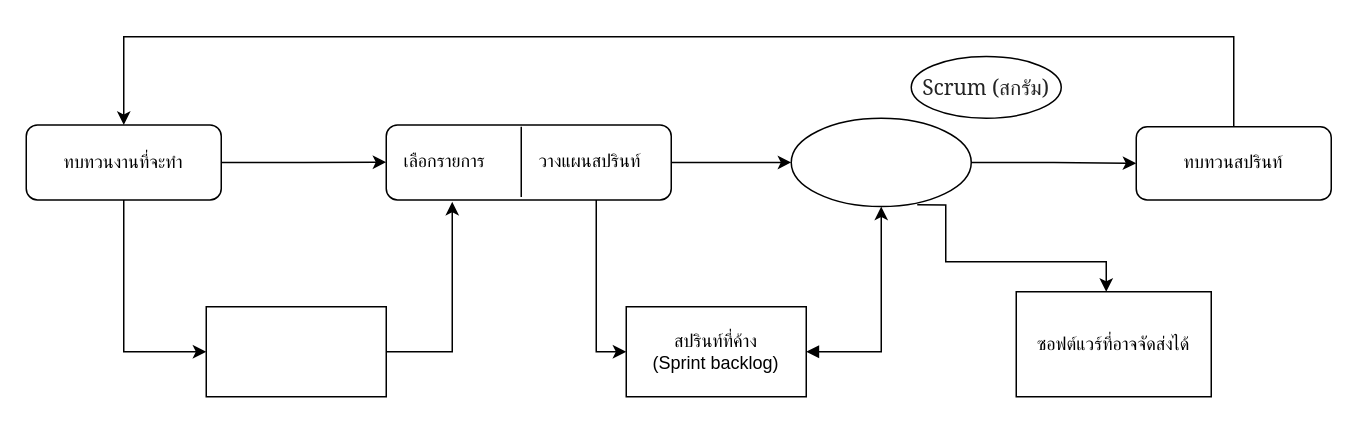
Image size: 1358x423. Some labels were removed from this diagram. Each missing label, with the centre of its shape:
งานที่ค้าง (Product backlog): the point at 295,351
สปรินท์: the point at 880,162
